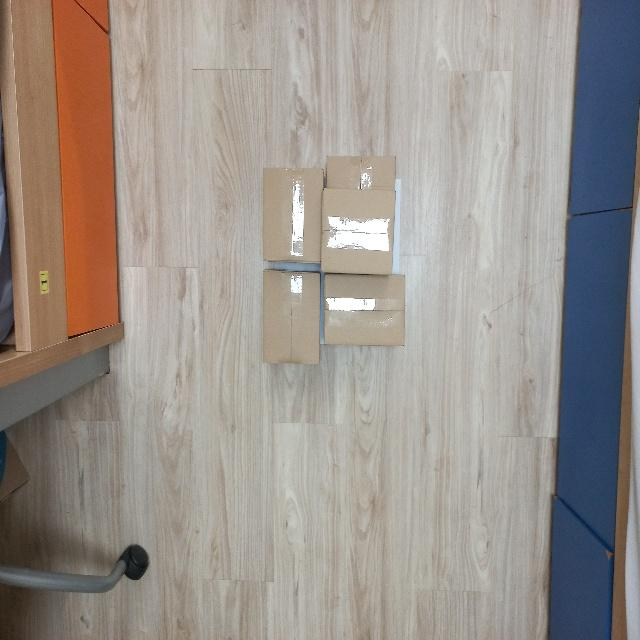box: (318, 187, 397, 276), (319, 272, 408, 348), (260, 167, 322, 264), (259, 271, 321, 365)
